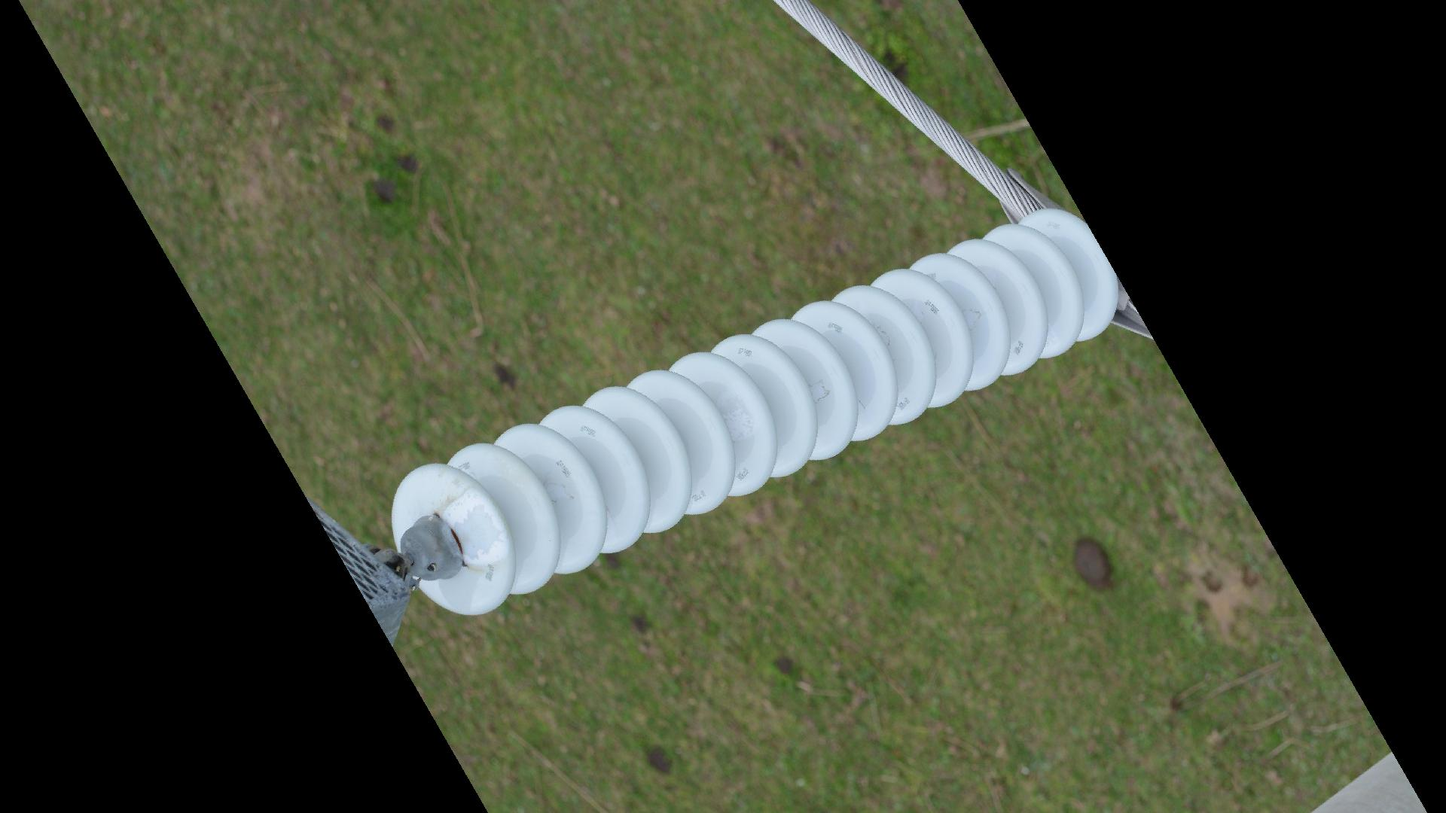insulator: (385, 202, 1124, 626)
insulator_flashover: (441, 483, 514, 566)
